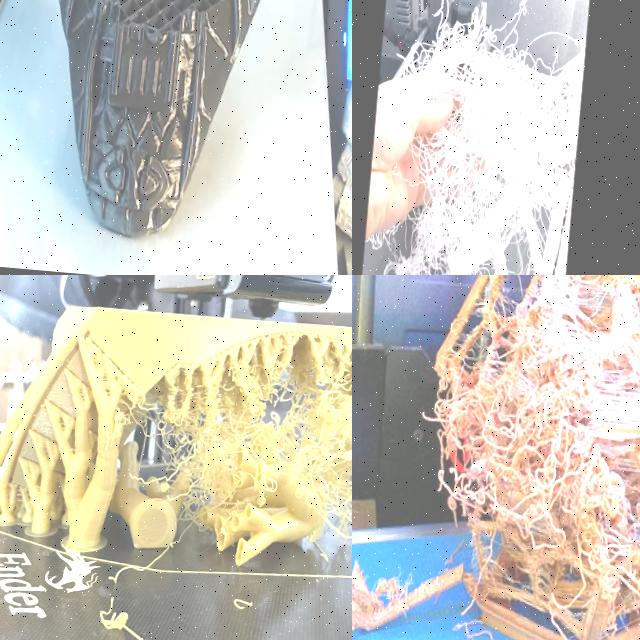spaghetti: (433, 275, 640, 640), (372, 0, 588, 275), (115, 365, 352, 578), (2, 597, 212, 640)
